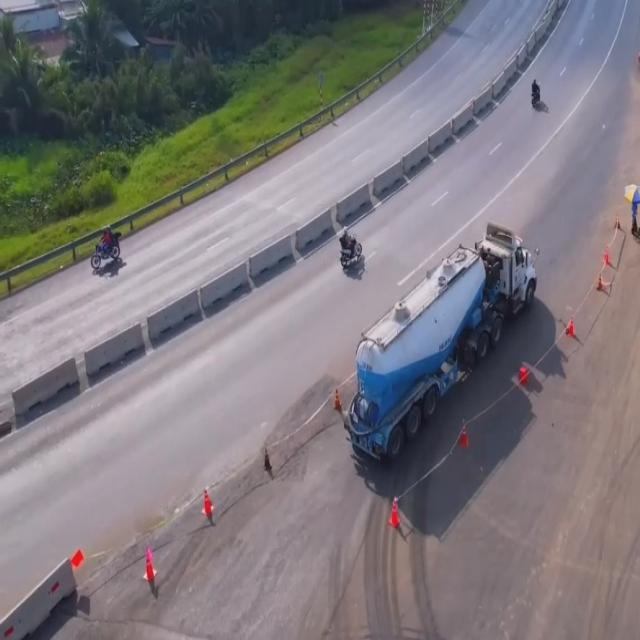motorbike: (91, 228, 122, 278), (338, 229, 363, 271), (529, 76, 542, 112)
truck: (343, 225, 539, 466)
